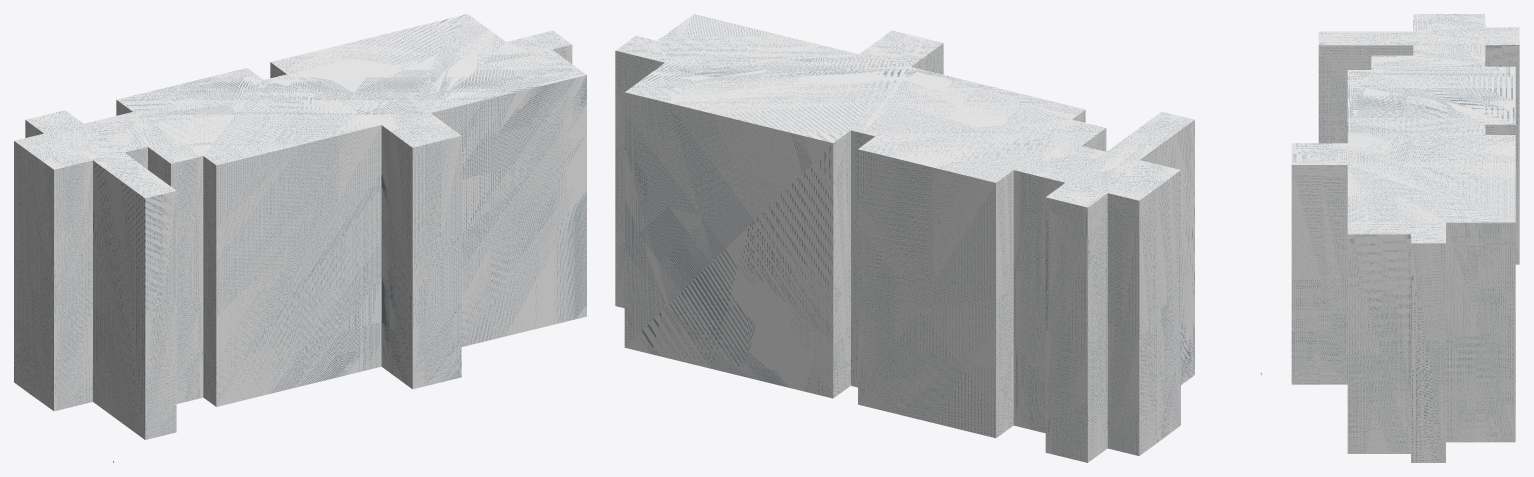
The model's file is URS.dae.
The picture shows the model from 3 angles, left to right: view 1: azimuth 30°, elevation 25°; view 2: azimuth 150°, elevation 25°; view 3: azimuth 270°, elevation 25°; orthographic projection. The views are drawn at different scales.
Visible parts, largest first — view 1: SketchUp; view 2: SketchUp; view 3: SketchUp.
Boxes of the visible parts, x1,y1,x2,y2 form: SketchUp: [14, 14, 586, 439]; SketchUp: [615, 14, 1194, 462]; SketchUp: [1291, 14, 1519, 462].
Size of the model in its own units: 15091 by 6268 by 6630.
